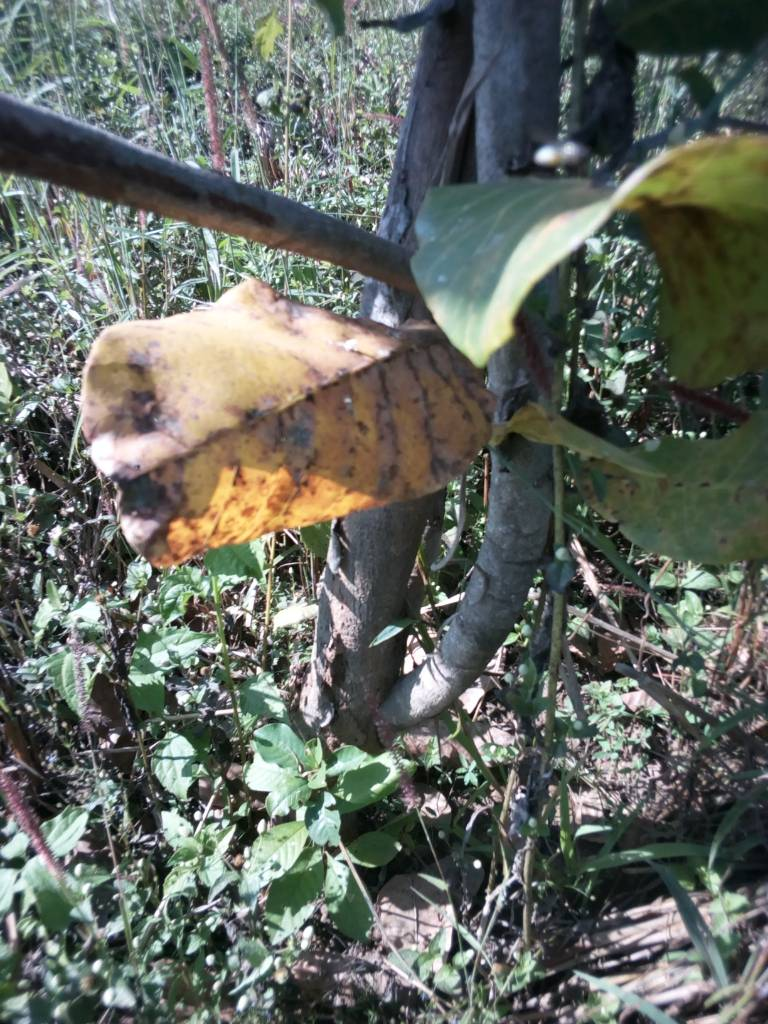Anthracnose: (83, 278, 496, 569), (591, 414, 768, 567)
